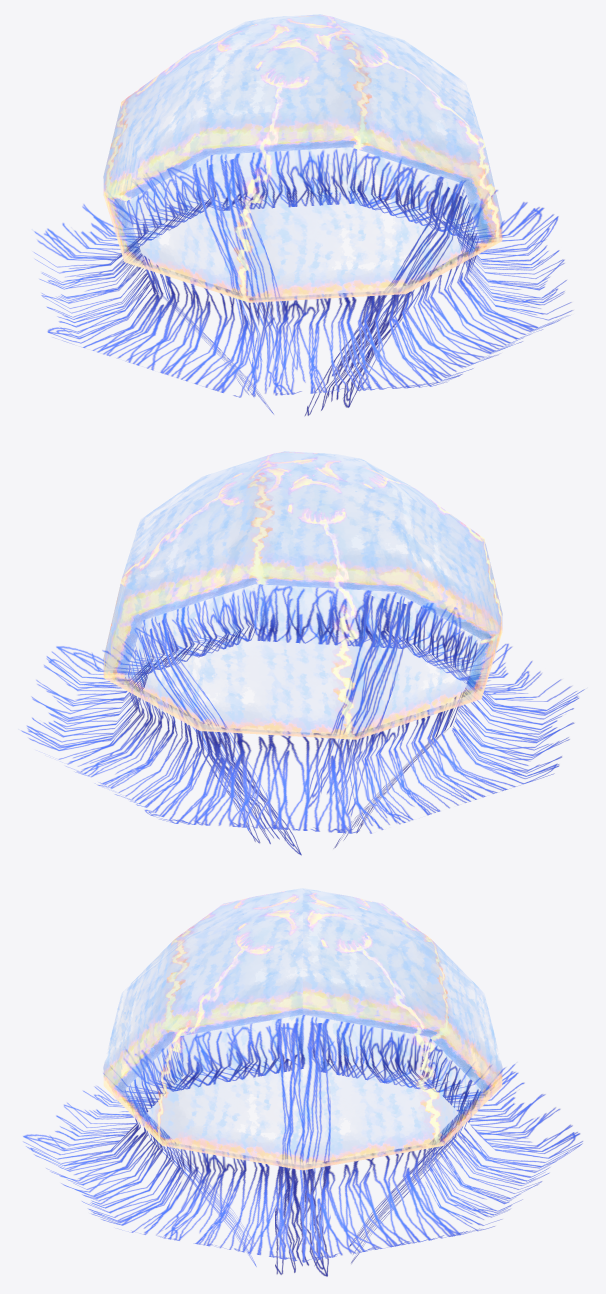
The model's file is parachute_jelly.glb.
3 renders of one model, top to bottom at view 1: azimuth 30°, elevation 25°; view 2: azimuth 150°, elevation 25°; view 3: azimuth 270°, elevation 25°, orthographic. The views are drawn at different scales.
Parts seen in each view (by area): view 1: pSphere7, pSphere9, pSphere12, pSphere11, pSphere10; view 2: pSphere7, pSphere11, pSphere12, pSphere9, pSphere10; view 3: pSphere7, pSphere10, pSphere12, pSphere11, pSphere9.
Boxes of the visible parts, <box> form: pSphere7: <box>32,15,573,397</box>; pSphere9: <box>194,158,300,383</box>; pSphere12: <box>331,181,464,391</box>; pSphere11: <box>304,285,408,416</box>; pSphere10: <box>142,254,273,414</box>; pSphere7: <box>18,451,584,833</box>; pSphere11: <box>305,595,410,816</box>; pSphere12: <box>141,617,271,831</box>; pSphere9: <box>198,722,301,855</box>; pSphere10: <box>333,690,464,848</box>; pSphere7: <box>23,890,582,1262</box>; pSphere10: <box>277,1023,330,1237</box>; pSphere12: <box>275,1164,328,1276</box>; pSphere11: <box>136,1084,256,1266</box>; pSphere9: <box>349,1084,469,1263</box>.
Bounding box in the file's own units: 5.18 × 3.54 × 5.18.
Materials: 1 (1 with a texture image).
